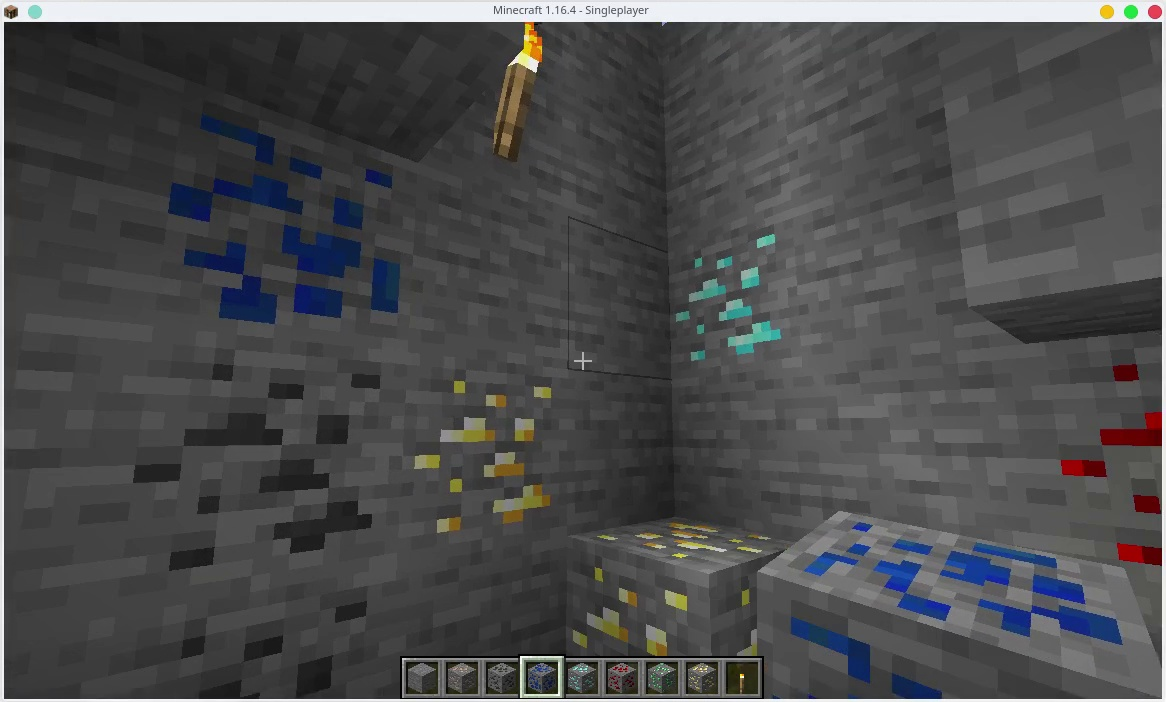gold: (569, 525, 756, 654), (414, 378, 560, 536), (688, 661, 720, 695)
